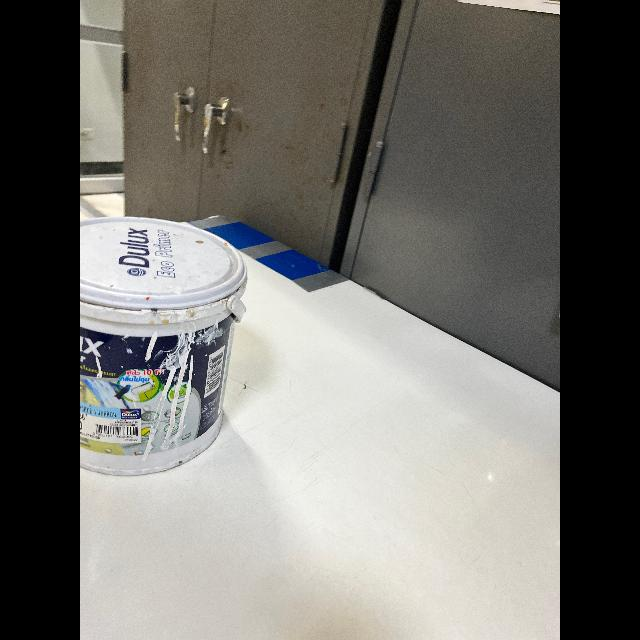paint_bucket: (80, 207, 250, 486)
